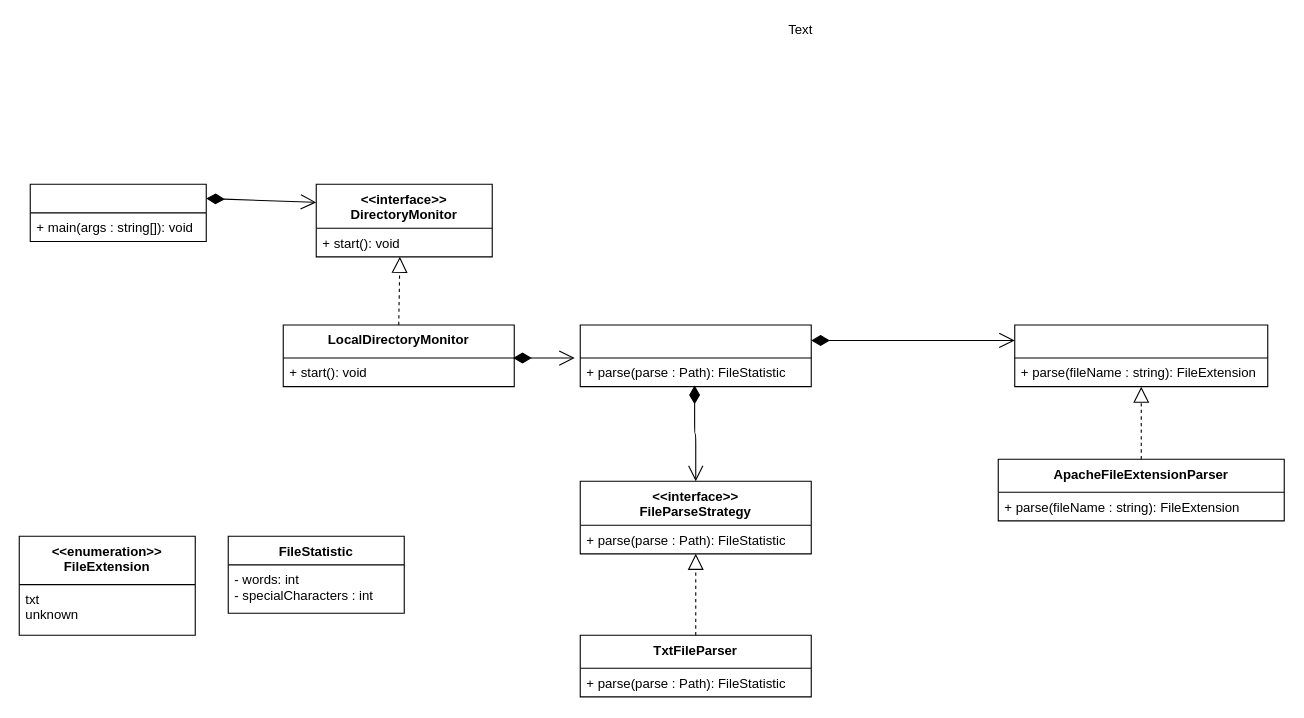
This 1304x718 diagram has some shape labels left out. The box of each missing label's shape, as (x1, y1, x2, y2) in pixels:
FileAnalyticsApp: (29, 183, 206, 241)
FileExtensionParse: (1014, 324, 1268, 387)
FileParser: (579, 324, 811, 387)
